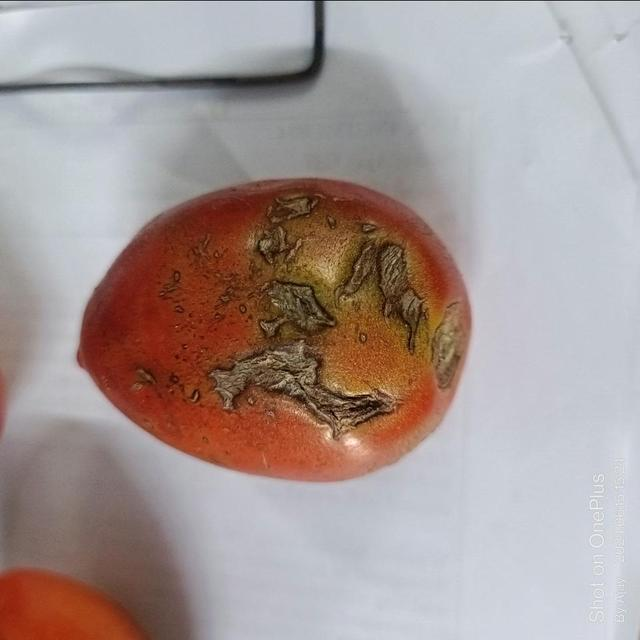Cracking Fruit: (157, 151, 256, 241)
